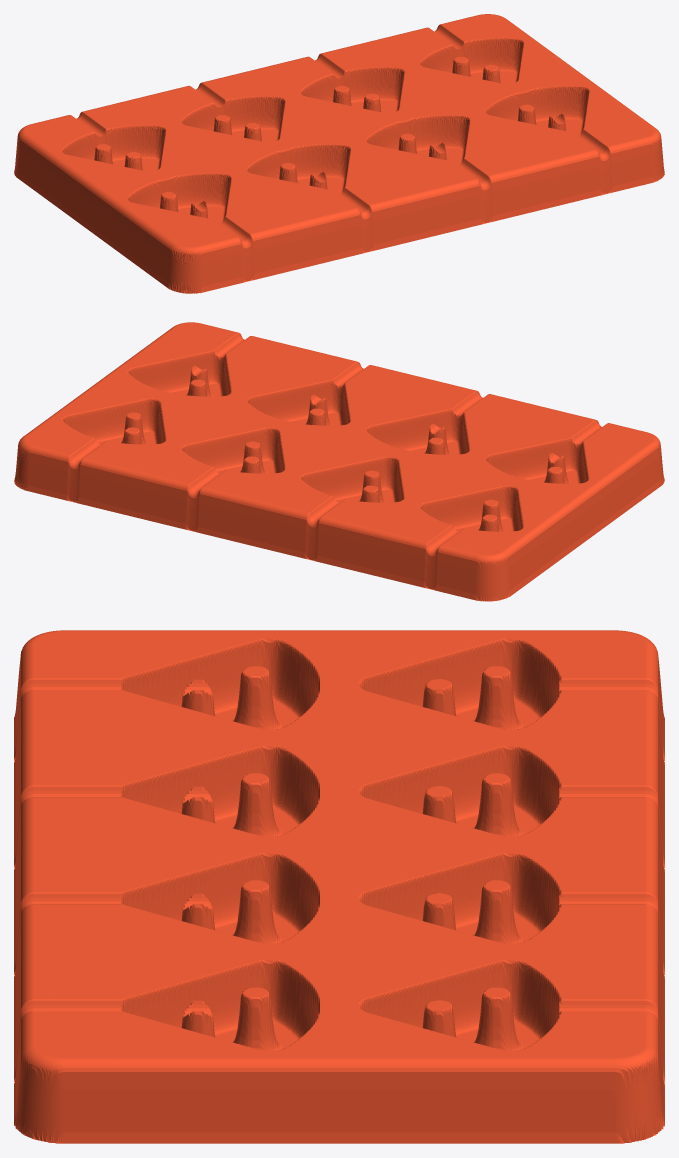
Rendered from mold.glb.
The picture shows the model from 3 angles, top to bottom: view 1: azimuth 30°, elevation 25°; view 2: azimuth 150°, elevation 25°; view 3: azimuth 270°, elevation 25°; orthographic projection. The views are drawn at different scales.
Visible parts, largest first — view 1: geometry_0; view 2: geometry_0; view 3: geometry_0.
Boxes of the visible parts, x1,y1,x2,y2 form: geometry_0: (14,14,664,293); geometry_0: (14,322,664,601); geometry_0: (14,630,664,1143).
Size of the model in its own units: 0.1907 by 0.0155 by 0.1184.
